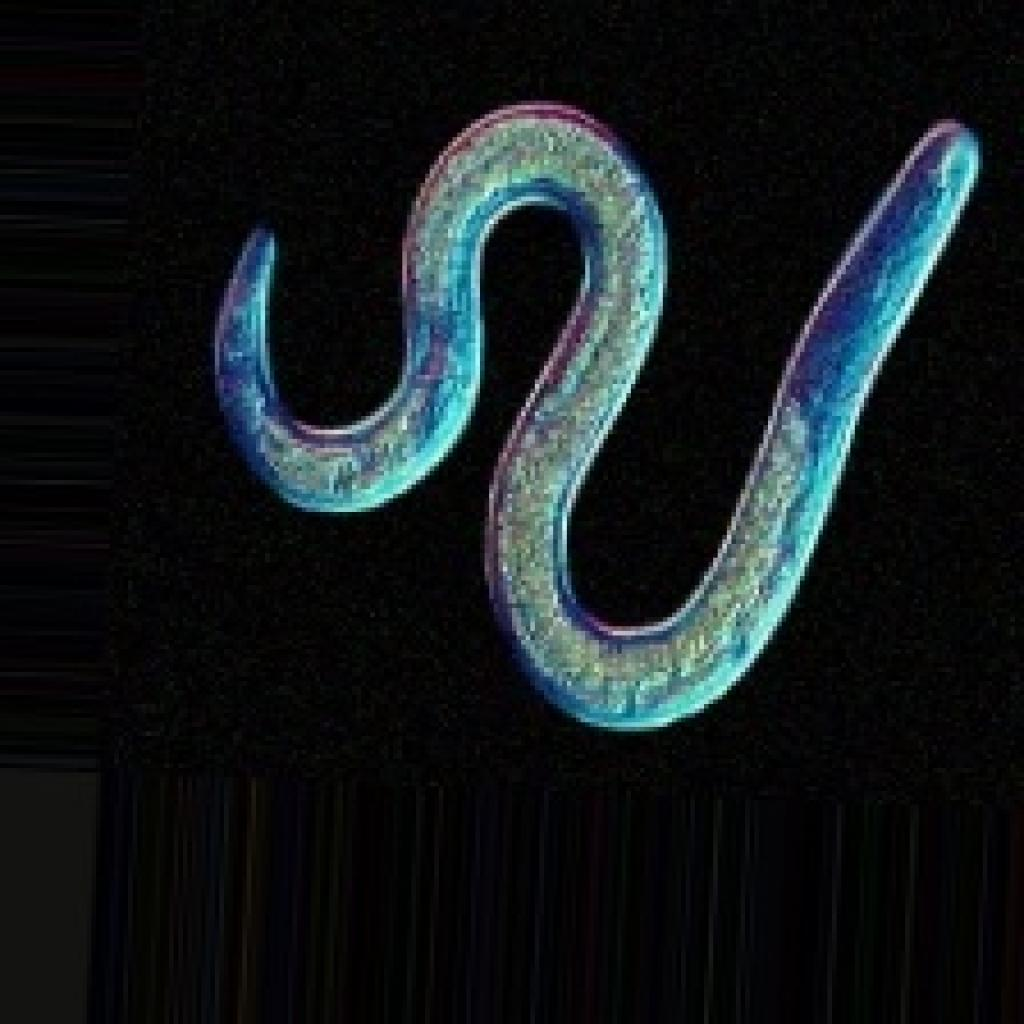Nematode: (201, 91, 983, 736)
